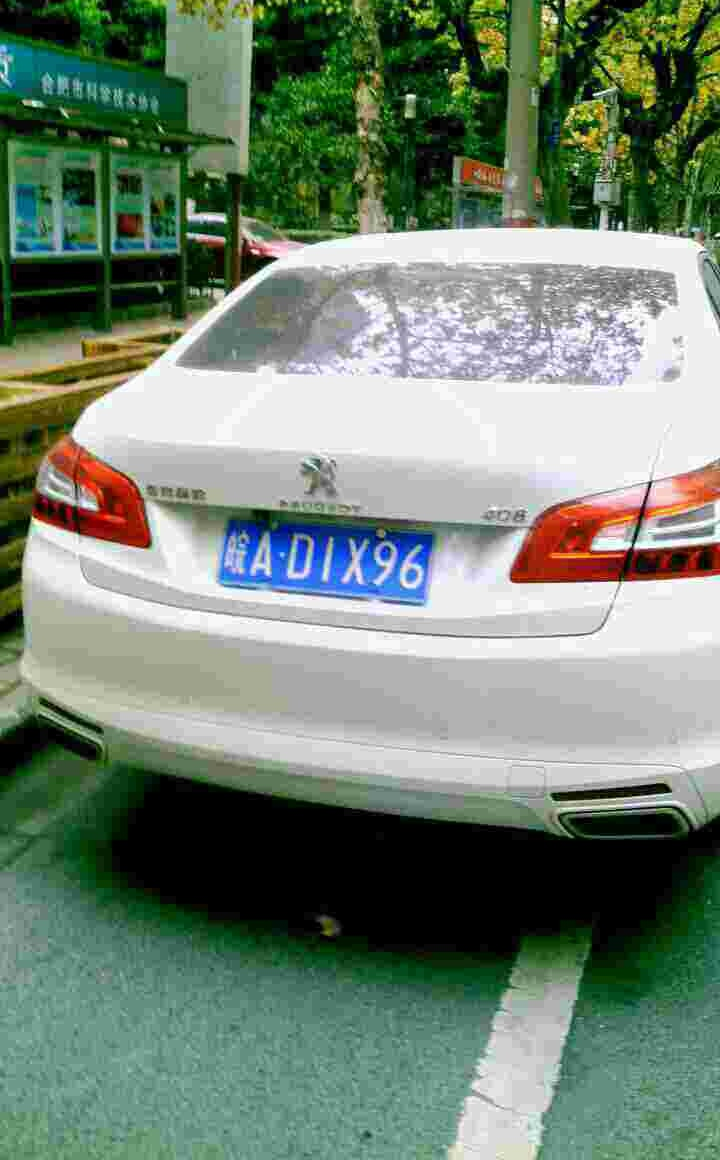license_plate: (216, 518, 428, 599)
